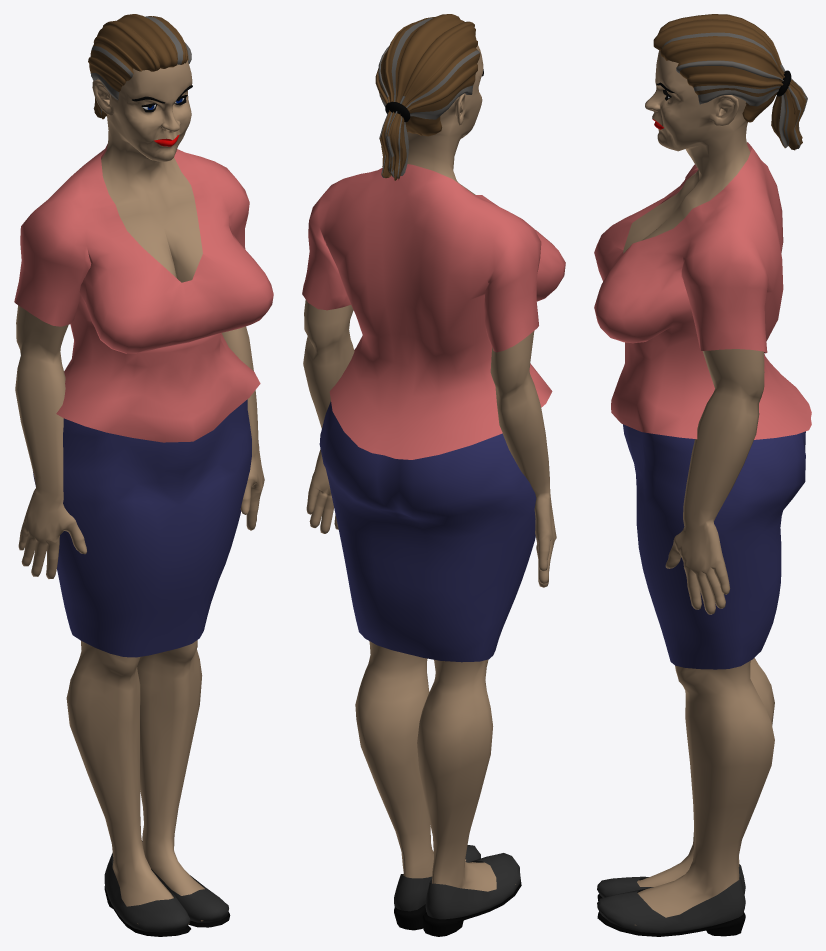
The model's file is female04.obj.
3 renders of one model, left to right at view 1: azimuth 30°, elevation 25°; view 2: azimuth 150°, elevation 25°; view 3: azimuth 270°, elevation 25°, orthographic. The views are drawn at different scales.
Visible parts, largest first — view 1: Stephanie_Stephanie_skin_8, Steph_shirt_Steph_shirt_Steph_shirt_6, Steph_skirt_Steph_skirt_Steph_skirt_7, Steph_hair_Steph_hair_hair_4, Steph_shoe_R_Steph_shoe_R_shoe_leather_18, Steph_shoe_L_Steph_shoe_L_shoe_leather_1, Steph_hair_Steph_hair_hair_grey_3; view 2: Steph_shirt_Steph_shirt_Steph_shirt_6, Stephanie_Stephanie_skin_8, Steph_skirt_Steph_skirt_Steph_skirt_7, Steph_hair_Steph_hair_hair_4, Steph_shoe_R_Steph_shoe_R_shoe_leather_18, Steph_hair_Steph_hair_hair_grey_3, Steph_shoe_L_Steph_shoe_L_shoe_leather_1, 19, 2; view 3: Stephanie_Stephanie_skin_8, Steph_shirt_Steph_shirt_Steph_shirt_6, Steph_skirt_Steph_skirt_Steph_skirt_7, Steph_hair_Steph_hair_hair_4, Steph_shoe_L_Steph_shoe_L_shoe_leather_1, Steph_hair_Steph_hair_hair_grey_3, 2, Steph_shoe_R_Steph_shoe_R_shoe_leather_18.
Boxes of the visible parts, x1,y1,x2,y2 form: Stephanie_Stephanie_skin_8: [15, 60, 264, 924]; Steph_shirt_Steph_shirt_Steph_shirt_6: [14, 143, 273, 442]; Steph_skirt_Steph_skirt_Steph_skirt_7: [33, 399, 251, 657]; Steph_hair_Steph_hair_hair_4: [88, 14, 188, 119]; Steph_shoe_R_Steph_shoe_R_shoe_leather_18: [104, 853, 190, 932]; Steph_shoe_L_Steph_shoe_L_shoe_leather_1: [142, 841, 228, 922]; Steph_hair_Steph_hair_hair_grey_3: [90, 16, 191, 114]; Steph_shirt_Steph_shirt_Steph_shirt_6: [302, 164, 565, 459]; Stephanie_Stephanie_skin_8: [303, 45, 556, 891]; Steph_skirt_Steph_skirt_Steph_skirt_7: [319, 401, 536, 662]; Steph_hair_Steph_hair_hair_4: [375, 14, 480, 180]; Steph_shoe_R_Steph_shoe_R_shoe_leather_18: [425, 853, 520, 919]; Steph_hair_Steph_hair_hair_grey_3: [378, 17, 479, 178]; Steph_shoe_L_Steph_shoe_L_shoe_leather_1: [394, 845, 480, 911]; 19: [422, 877, 521, 936]; 2: [394, 904, 426, 930]; Stephanie_Stephanie_skin_8: [623, 50, 774, 925]; Steph_shirt_Steph_shirt_Steph_shirt_6: [594, 142, 811, 439]; Steph_skirt_Steph_skirt_Steph_skirt_7: [623, 424, 805, 669]; Steph_hair_Steph_hair_hair_4: [653, 14, 806, 150]; Steph_shoe_L_Steph_shoe_L_shoe_leather_1: [597, 877, 745, 933]; Steph_hair_Steph_hair_hair_grey_3: [662, 32, 807, 148]; 2: [597, 912, 745, 936]; Steph_shoe_R_Steph_shoe_R_shoe_leather_18: [597, 864, 745, 897].
Bounding box in the file's own units: 47.5 × 170 × 37.1.
